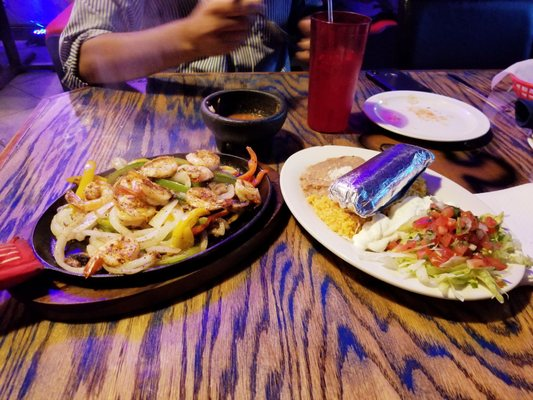sushi: (199, 88, 288, 145)
